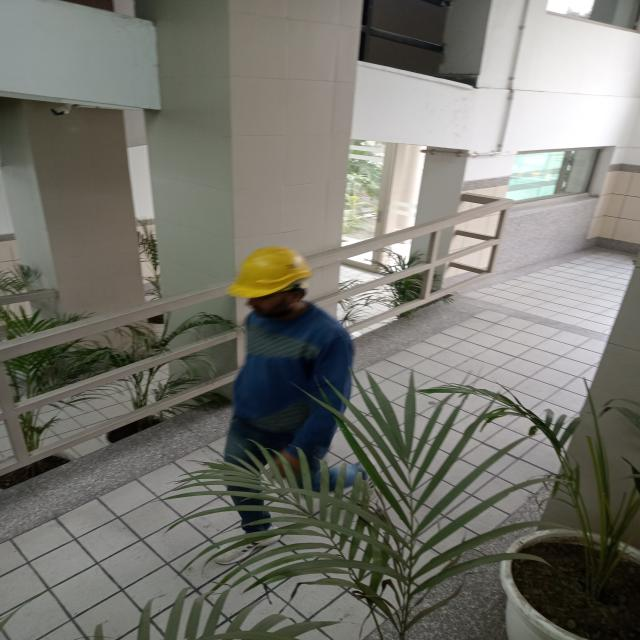no jacket: (208, 245, 364, 552)
